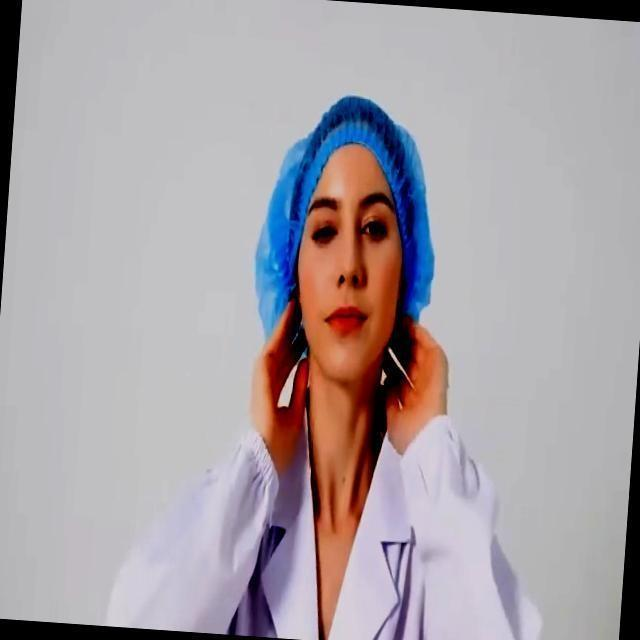gloves: (286, 97, 412, 174)
no_hairnet: (298, 273, 372, 352)
